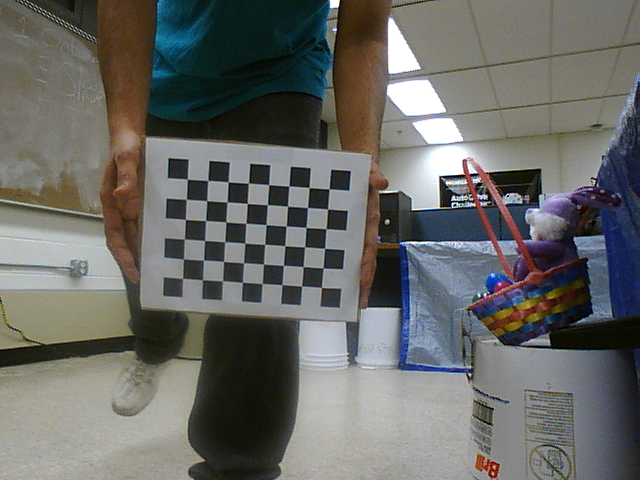bunny: (454, 152, 613, 349)
